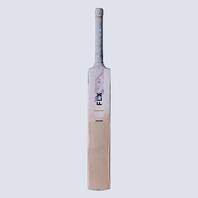bottom left: (83, 179, 98, 194)
bottom right: (104, 181, 123, 195)
top left: (81, 64, 95, 76)
top right: (104, 65, 122, 79)
